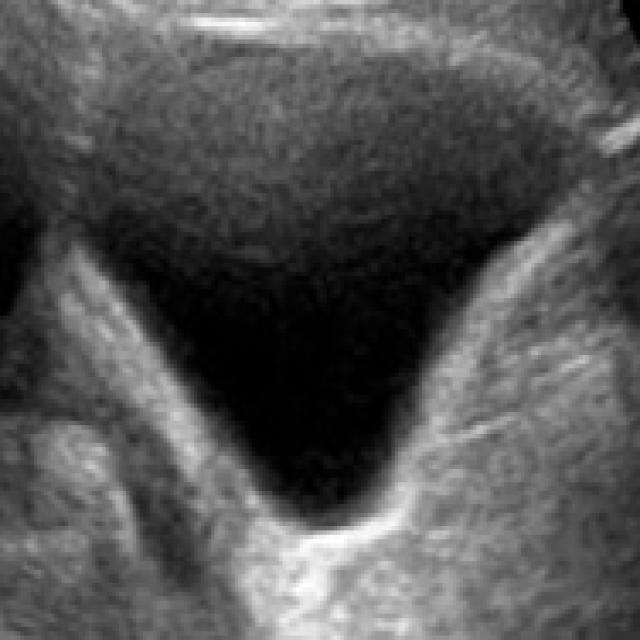bladder: (51, 0, 622, 589)
